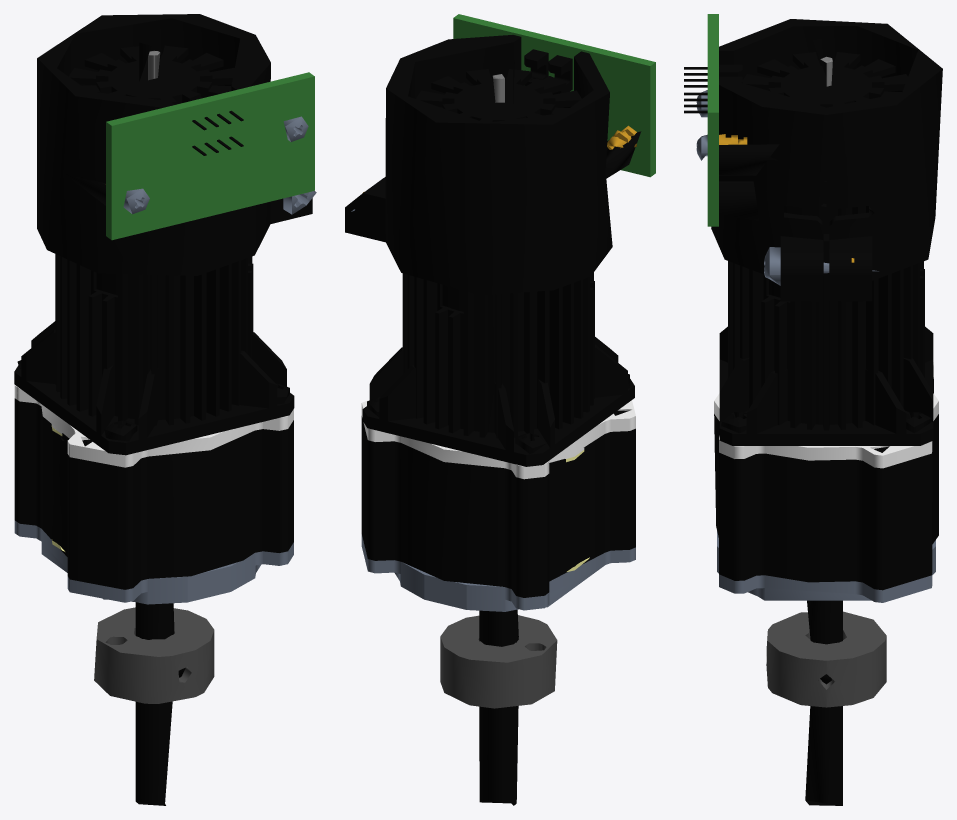
Rendered from fc-dc-faulhaber-2342.glb.
The picture shows the model from 3 angles, left to right: view 1: azimuth 30°, elevation 25°; view 2: azimuth 150°, elevation 25°; view 3: azimuth 270°, elevation 25°; orthographic projection. The views are drawn at different scales.
Visible parts, largest first — view 1: 0_0_0_0, 0_0.25_0_0, 0.08333333333333333_0.08333333333333333_0.08333333333333333_, 0.16666666666666666_0.16666666666666666_0.25_0, 1_1_1_0.85; view 2: 0_0_0_0, 0.08333333333333333_0.08333333333333333_0.08333333333333333_, 0_0.25_0_0, 0.16666666666666666_0.16666666666666666_0.25_0, 1_1_1_0.85; view 3: 0_0_0_0, 0.08333333333333333_0.08333333333333333_0.08333333333333333_, 0.16666666666666666_0.16666666666666666_0.25_0, 1_1_1_0.85, 0_0.25_0_0.
Boxes of the visible parts, x1=… form: 0_0_0_0: x1=14, y1=14, x2=312, y2=805; 0_0.25_0_0: x1=106, y1=72, x2=314, y2=240; 0.08333333333333333_0.08333333333333333_0.08333333333333333_: x1=94, y1=607, x2=214, y2=703; 0.16666666666666666_0.16666666666666666_0.25_0: x1=14, y1=116, x2=316, y2=604; 1_1_1_0.85: x1=14, y1=385, x2=293, y2=467; 0_0_0_0: x1=345, y1=35, x2=641, y2=805; 0.08333333333333333_0.08333333333333333_0.08333333333333333_: x1=440, y1=615, x2=557, y2=708; 0_0.25_0_0: x1=453, y1=14, x2=655, y2=177; 0.16666666666666666_0.16666666666666666_0.25_0: x1=351, y1=209, x2=635, y2=611; 1_1_1_0.85: x1=361, y1=400, x2=635, y2=479; 0_0_0_0: x1=684, y1=19, x2=942, y2=805; 0.08333333333333333_0.08333333333333333_0.08333333333333333_: x1=766, y1=611, x2=886, y2=707; 0.16666666666666666_0.16666666666666666_0.25_0: x1=696, y1=90, x2=935, y2=602; 1_1_1_0.85: x1=714, y1=362, x2=938, y2=468; 0_0.25_0_0: x1=707, y1=14, x2=718, y2=226.
Bounding box in the file's own units: 4.03 × 11.84 × 3.66.
